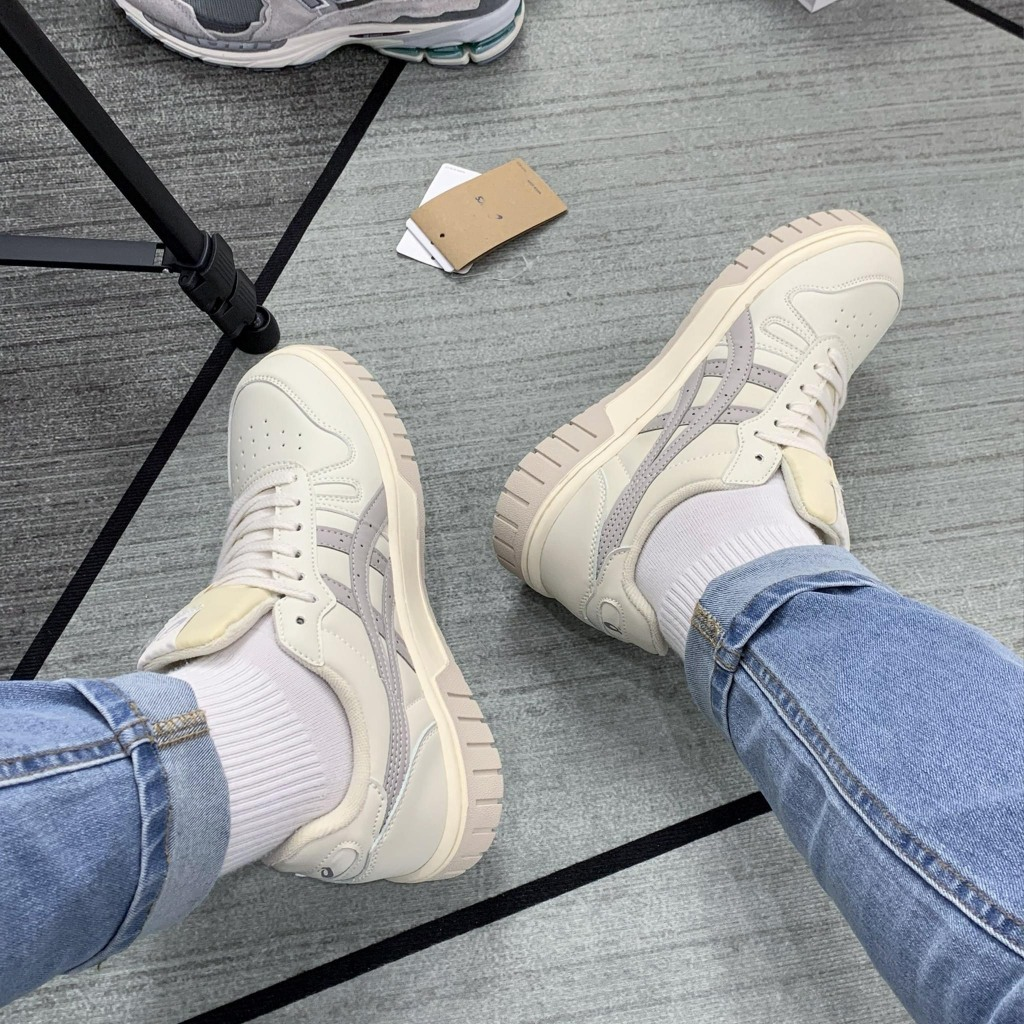sneakers: (134, 336, 507, 886), (490, 203, 910, 658)
